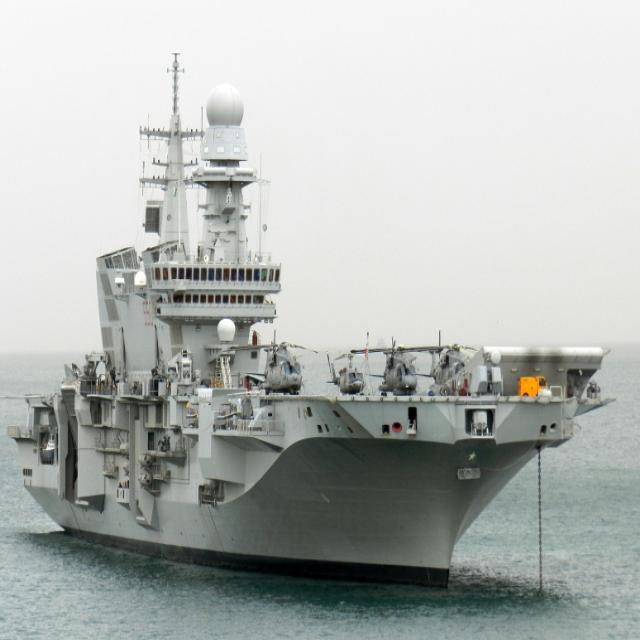Portanaves: (5, 42, 623, 597)
